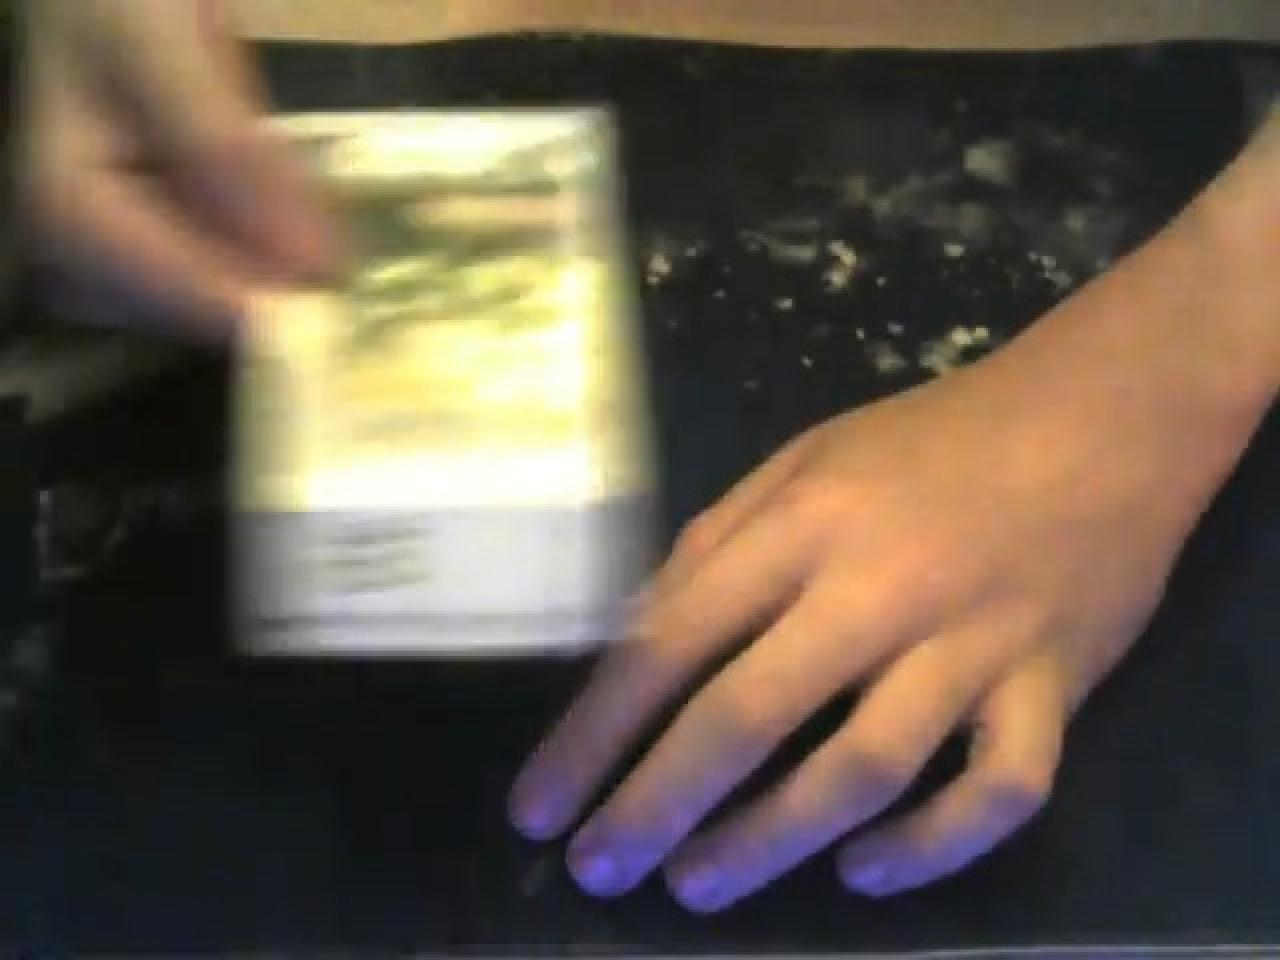10leva: (218, 96, 666, 667)
